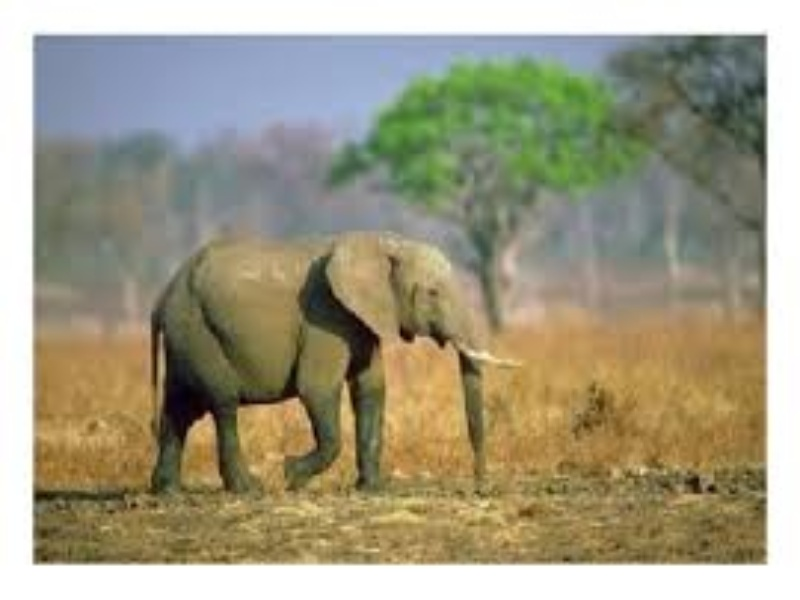elephant: (128, 217, 529, 503)
